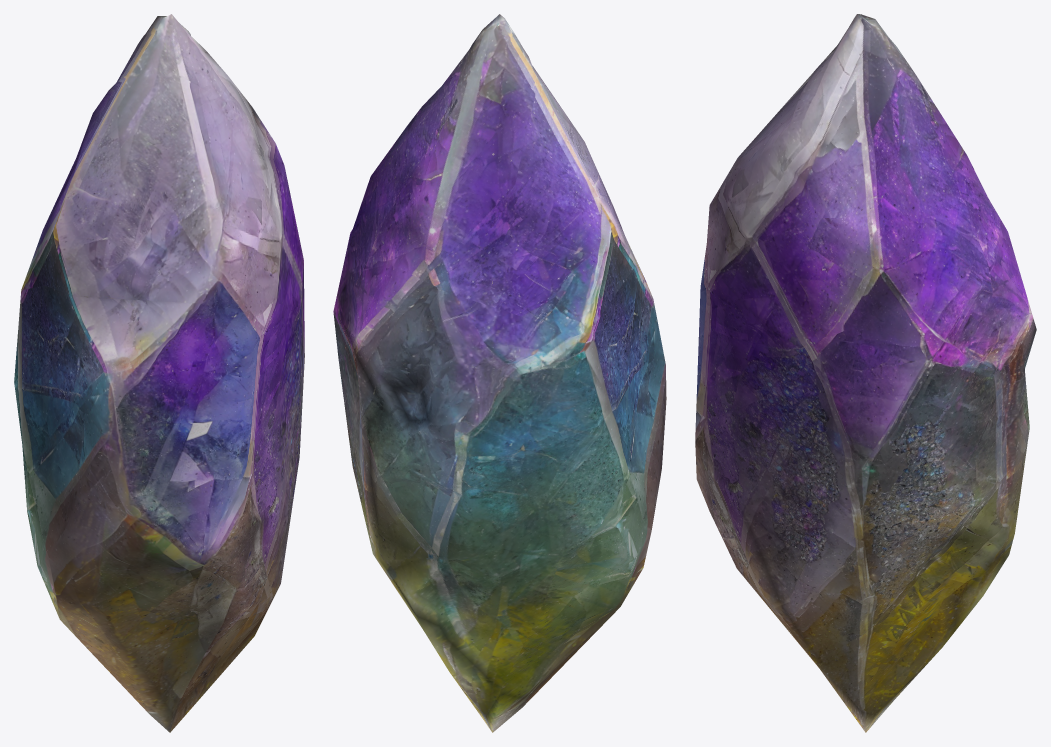
The model's file is rainbow_crystal_Gem_0817040118_refine.fbx.
The picture shows the model from 3 angles, left to right: view 1: azimuth 30°, elevation 25°; view 2: azimuth 150°, elevation 25°; view 3: azimuth 270°, elevation 25°; orthographic projection.
Visible parts, largest first — view 1: Mesh_0; view 2: Mesh_0; view 3: Mesh_0.
Part boxes in pixels (bbox=[...]): Mesh_0: bbox=[14, 14, 304, 732]; Mesh_0: bbox=[333, 14, 666, 732]; Mesh_0: bbox=[695, 14, 1036, 732].
Size of the model in its own units: 47.37 by 119 by 51.41.
1 material, 1 textured.
